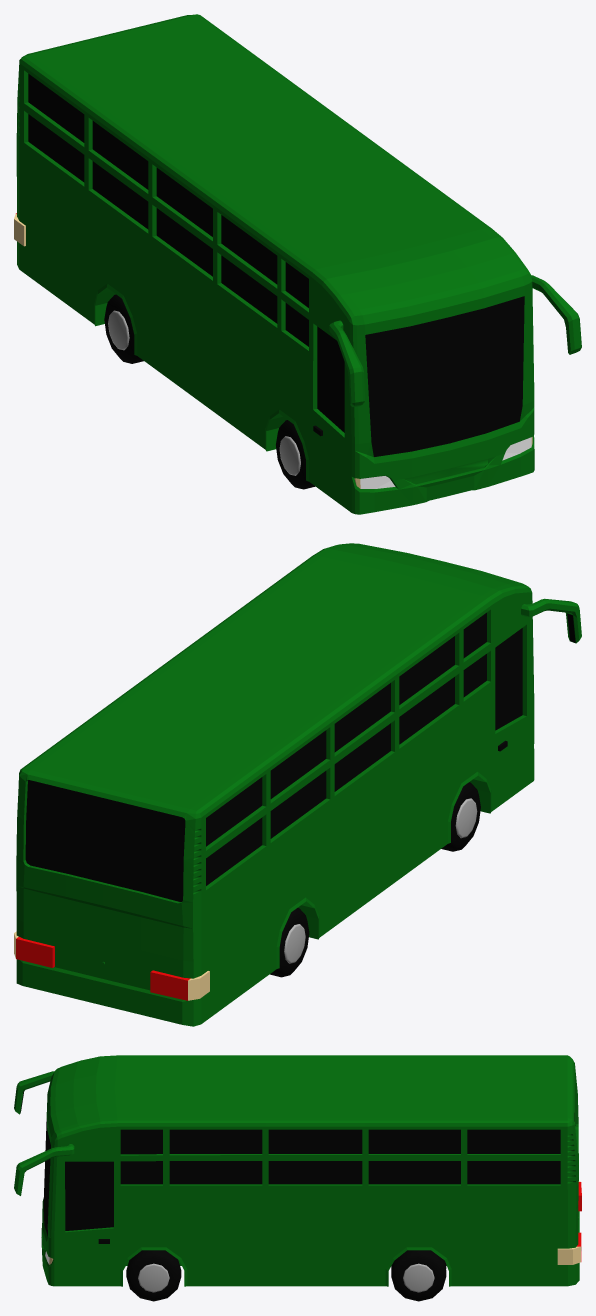
Rendered from BusLowPoly-c.fbx.
3 renders of one model, top to bottom at view 1: azimuth 30°, elevation 25°; view 2: azimuth 150°, elevation 25°; view 3: azimuth 270°, elevation 25°, orthographic. The views are drawn at different scales.
Parts seen in each view (by area): view 1: BUS, BR, FR, High-Beam; view 2: BUS, Break-Light, BR, FR; view 3: BUS, BL, FL, Light-Left.
Part boxes in pixels (<box>): BUS: <box>16,14,581,514</box>; BR: <box>104,294,143,363</box>; FR: <box>276,420,315,489</box>; High-Beam: <box>360,437,531,488</box>; BUS: <box>16,543,581,1026</box>; Break-Light: <box>16,937,190,1000</box>; BR: <box>270,908,309,977</box>; FR: <box>441,782,480,851</box>; BUS: <box>14,1055,581,1286</box>; BL: <box>391,1250,446,1301</box>; FL: <box>126,1250,181,1301</box>; Light-Left: <box>49,1246,580,1264</box>.
Bounding box in the file's own units: 3.1 × 3.02 × 8.55.
